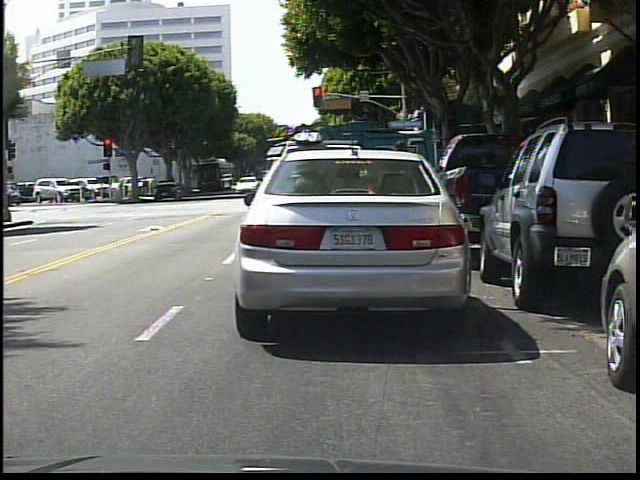person: (385, 137, 426, 267)
